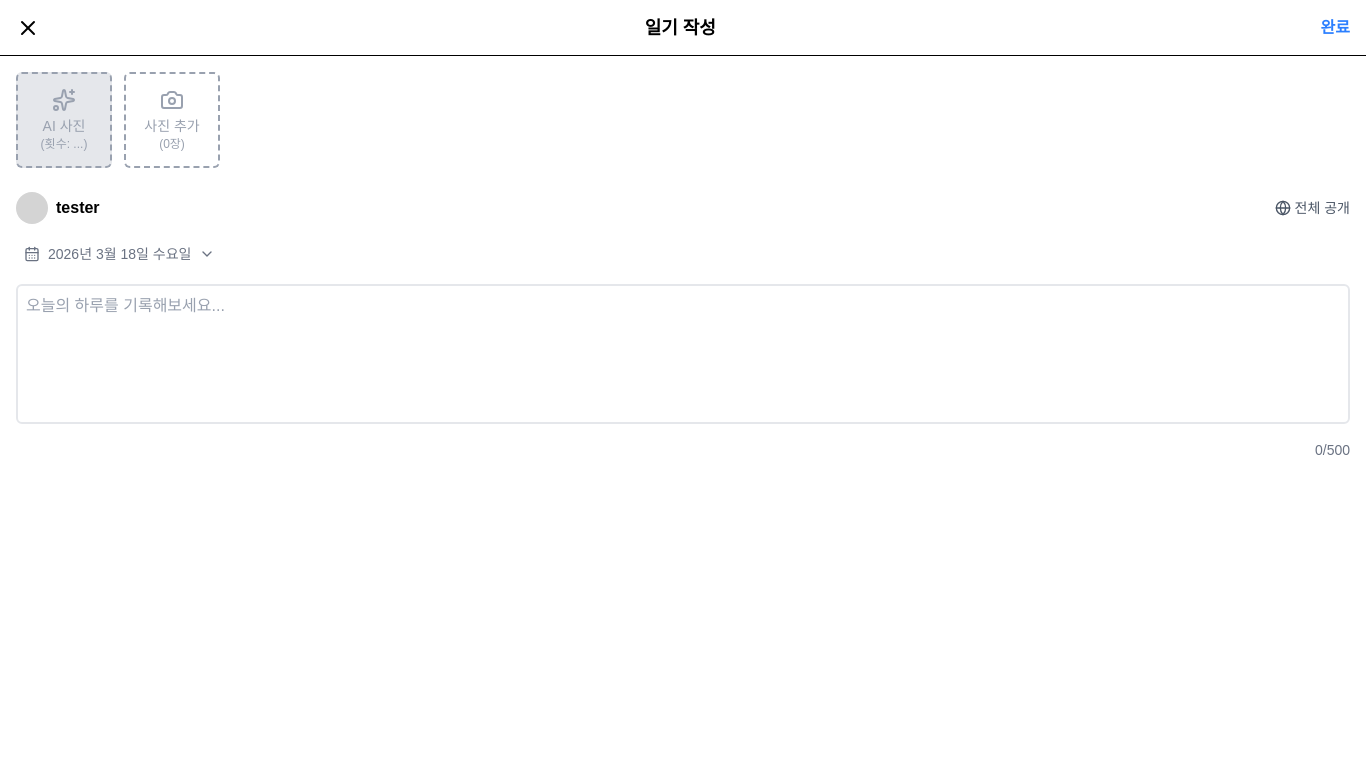
Test: DiaryCreateForm › 작성된 날짜는 비활성화되고 선택 가능한 날짜를 누르면 작성 날짜가 바뀐다
The width and height of the screenshot is (1366, 768).
Click the button "2026년 3월 18일". click: click(120, 254)
box: [16,240,224,268]
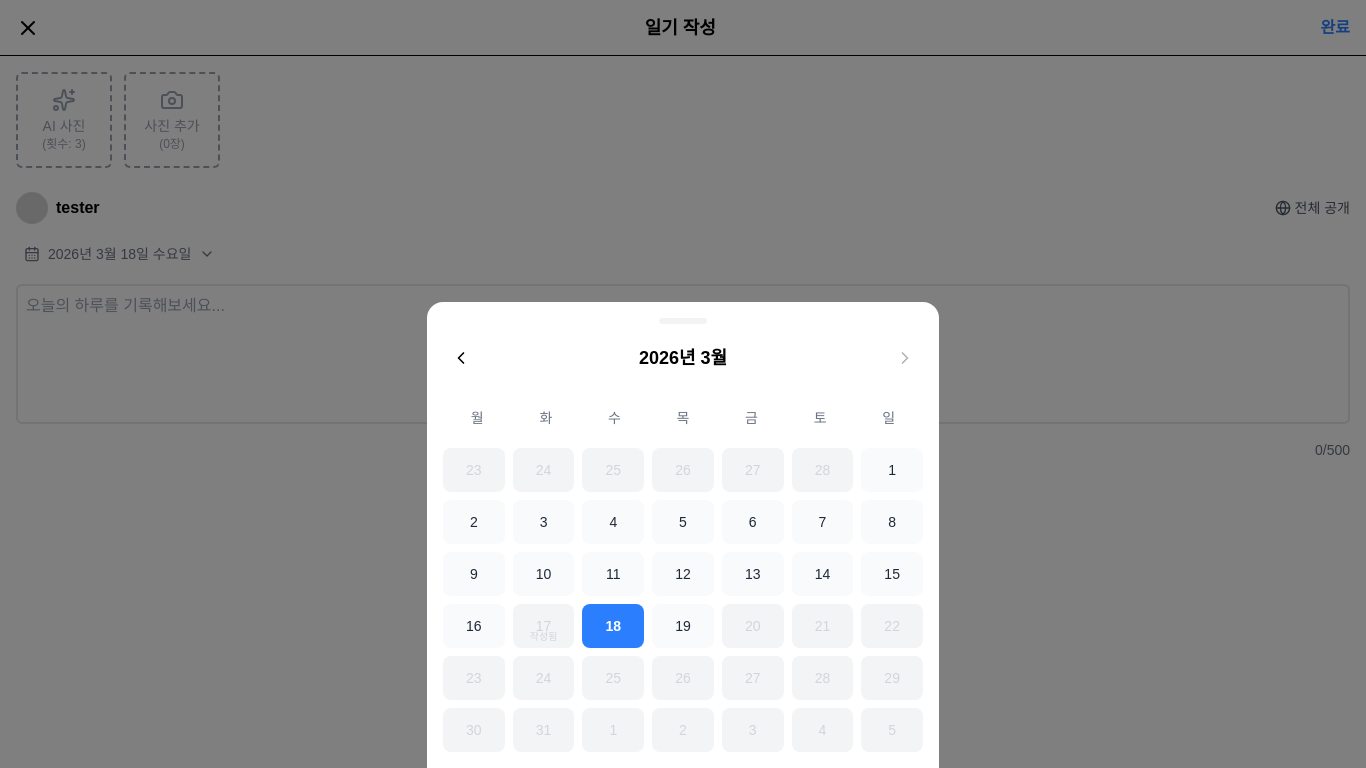
Check: the button with test id "date-cell-2026-03-17" is disabled, box [513,604,574,648]
Check: the button with test id "date-cell-2026-03-19" is enabled
Click the button with test id "date-cell-2026-03-19". click: click(683, 626)
box: [652,604,714,648]
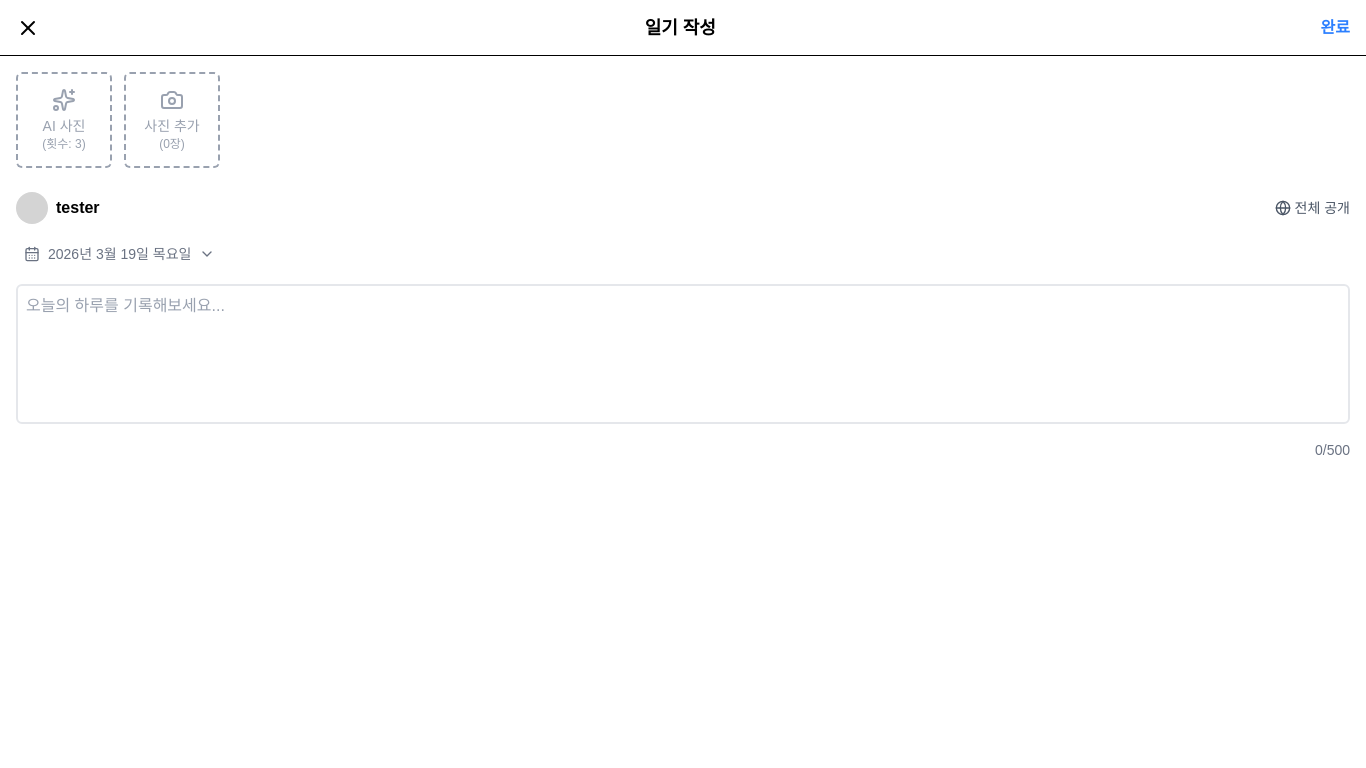
Check: the button "2026년 3월 19일" is shown, box [16,240,224,268]
